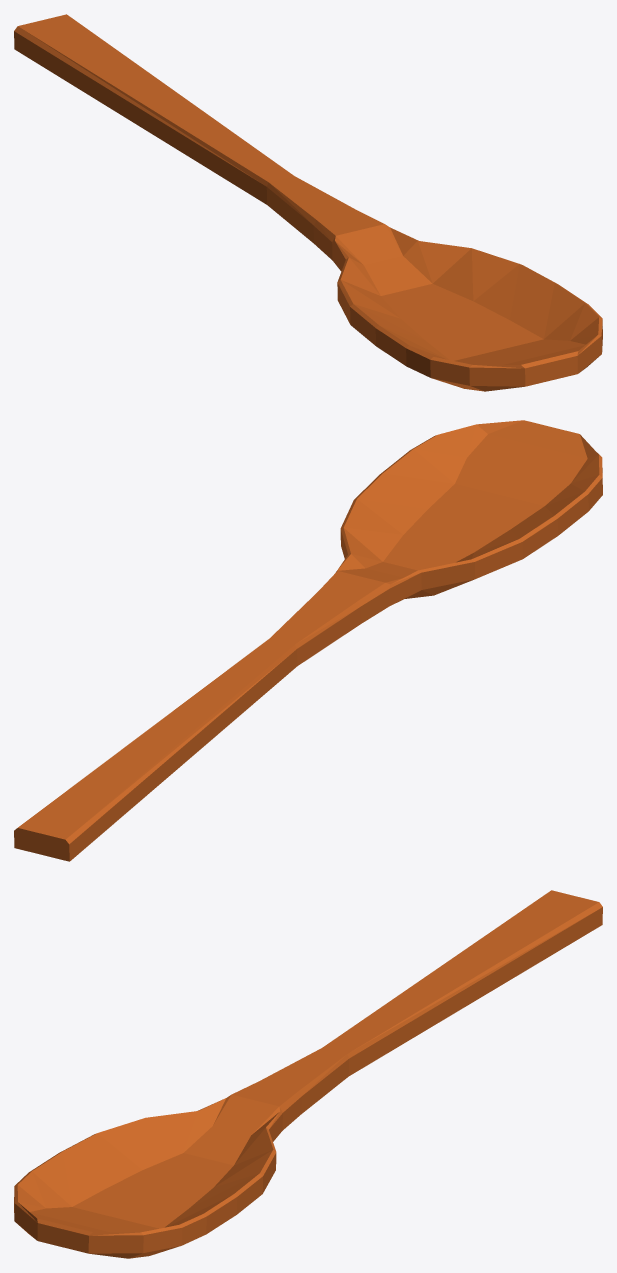
The model's file is Spoon.FBX.
The picture shows the model from 3 angles, top to bottom: view 1: azimuth 30°, elevation 25°; view 2: azimuth 150°, elevation 25°; view 3: azimuth 330°, elevation 25°; orthographic projection.
Visible parts, largest first — view 1: Box006; view 2: Box006; view 3: Box006.
Part boxes in pixels (bbox=[...]): Box006: bbox=[14, 14, 602, 391]; Box006: bbox=[14, 420, 602, 861]; Box006: bbox=[14, 890, 602, 1258].
Size of the model in its own units: 3.59 by 1.16 by 17.61.
